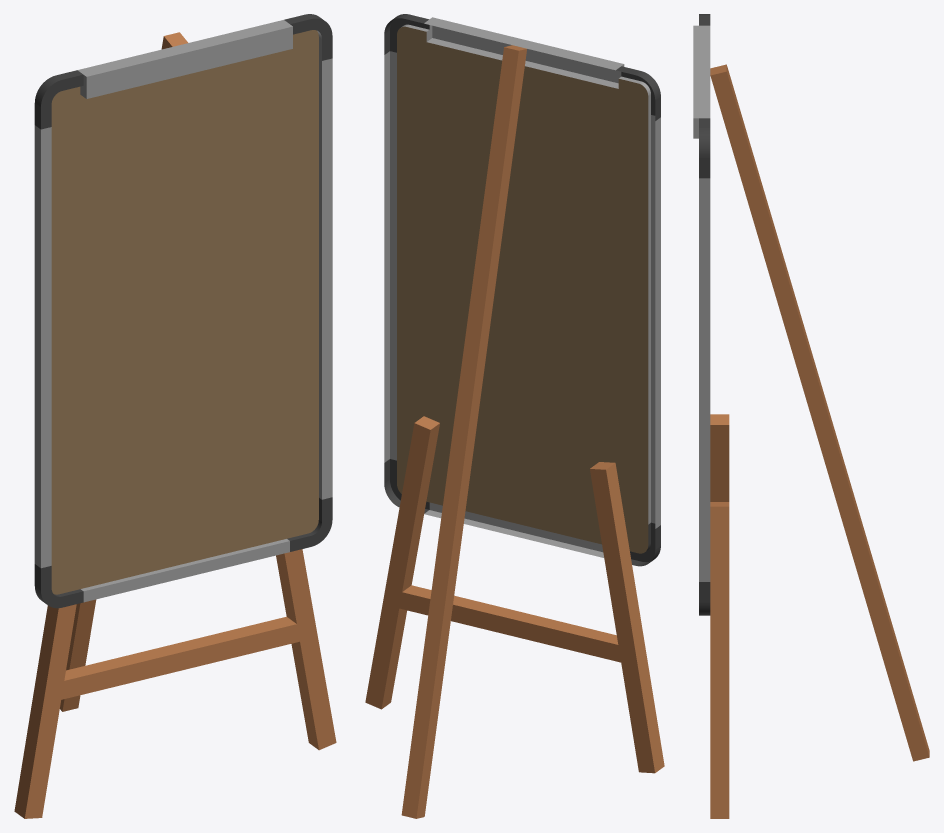
Rendered from pizarra_corcho.fbx.
The picture shows the model from 3 angles, left to right: view 1: azimuth 30°, elevation 25°; view 2: azimuth 150°, elevation 25°; view 3: azimuth 270°, elevation 25°; orthographic projection. The views are drawn at different scales.
Parts seen in each view (by area): view 1: Group1, Group3, Group2; view 2: Group1, Group3, Group2; view 3: Group2, Group3, Group1.
Part boxes in pixels (left/top/right/bottom): Group1: left=34, top=14, right=332, bottom=608; Group3: left=14, top=549, right=336, bottom=818; Group2: left=60, top=32, right=188, bottom=711; Group1: left=384, top=14, right=660, bottom=566; Group3: left=365, top=416, right=664, bottom=773; Group2: left=401, top=45, right=526, bottom=818; Group2: left=710, top=64, right=929, bottom=761; Group3: left=710, top=414, right=729, bottom=818; Group1: left=693, top=14, right=710, bottom=615.
Size of the model in its own units: 0.8792 by 2.02 by 0.6268.
